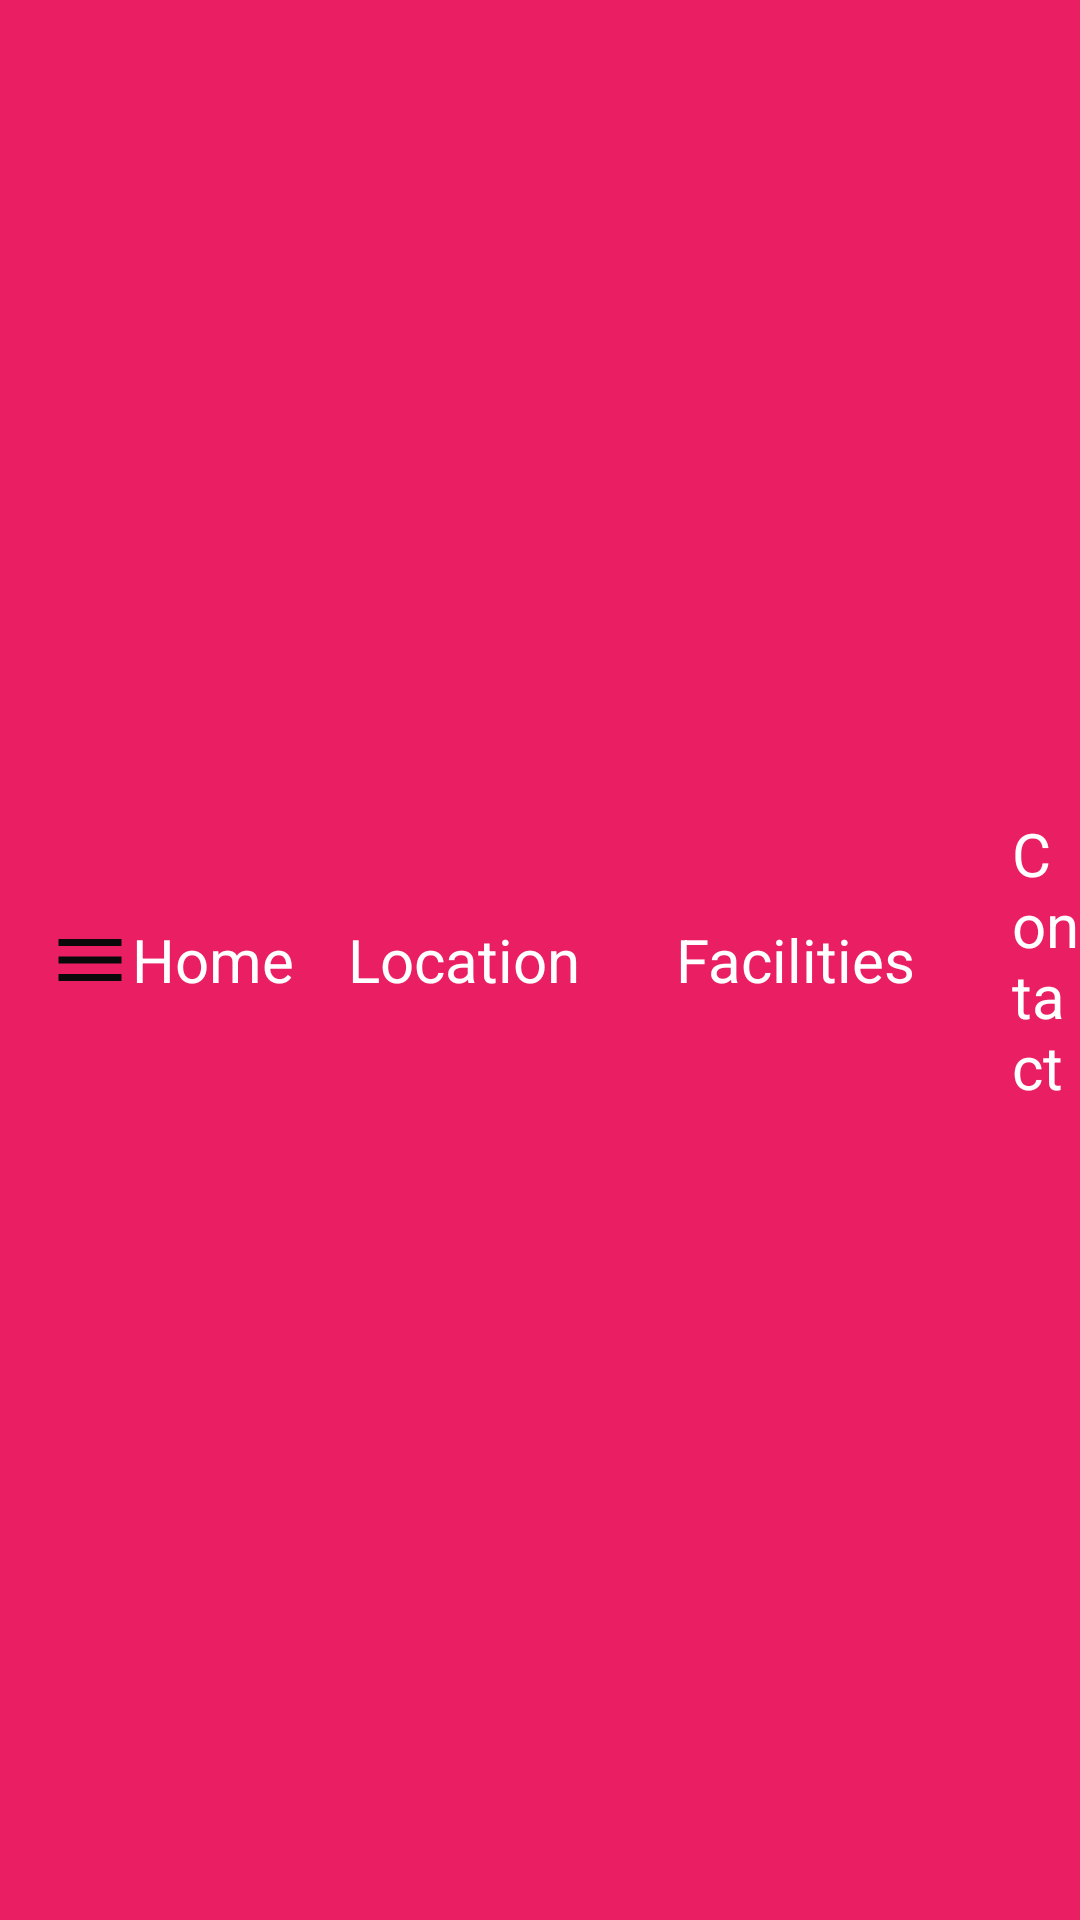

Icon click points for this 1080×1920 phone screenshot, format [x,y]:
menu: [90,960]
